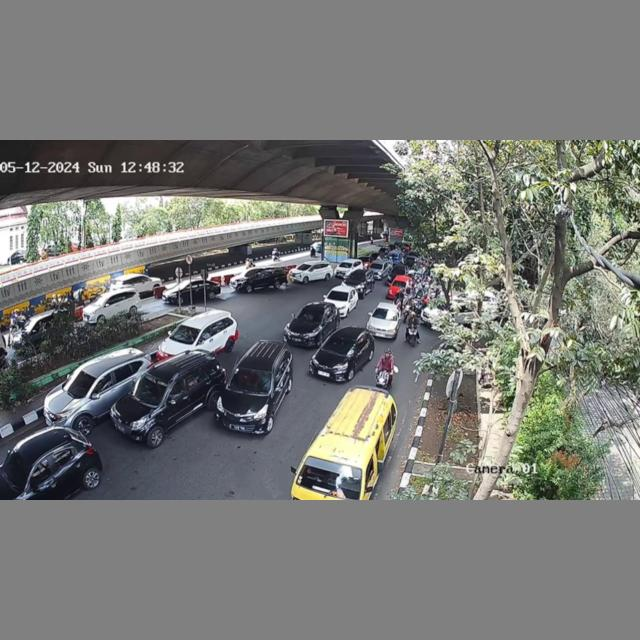windshield: (130, 374, 168, 404), (230, 367, 271, 394), (323, 334, 356, 355), (168, 325, 201, 345), (296, 306, 324, 325), (372, 307, 398, 320)
